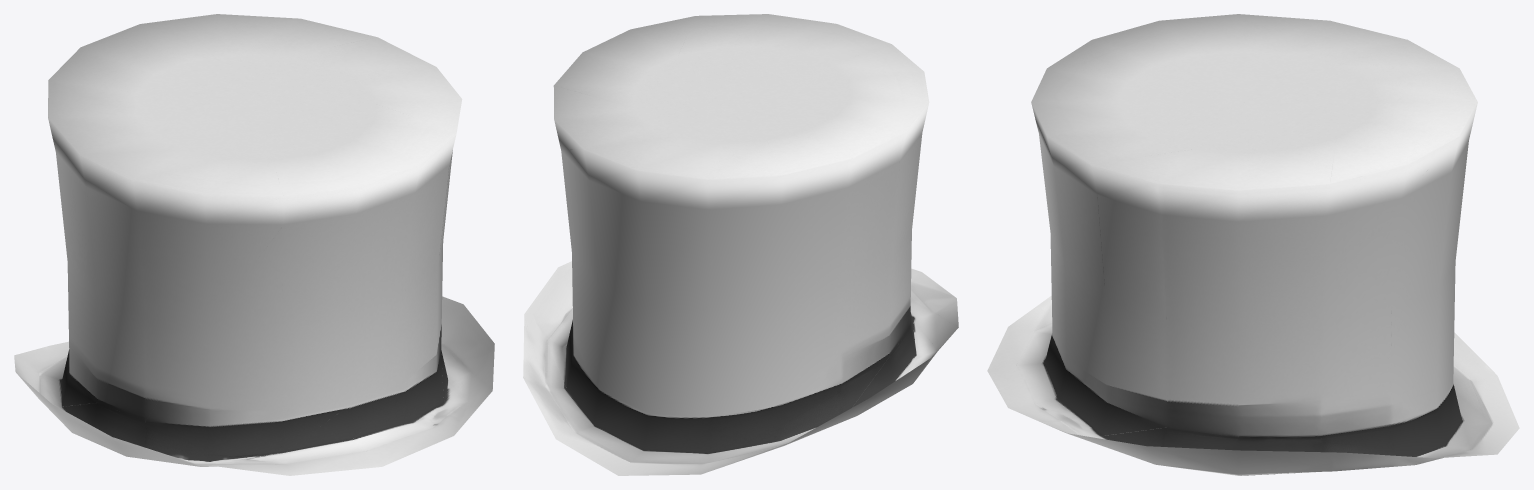
The model's file is hatTop.glb.
3 views of the same model, side by side, from view 1: azimuth 30°, elevation 25°; view 2: azimuth 150°, elevation 25°; view 3: azimuth 270°, elevation 25° (orthographic). The views are drawn at different scales.
Parts seen in each view (by area): view 1: HatTop; view 2: HatTop; view 3: HatTop.
Boxes of the visible parts, bbox=[...] form: HatTop: bbox=[14, 14, 494, 475]; HatTop: bbox=[523, 14, 958, 475]; HatTop: bbox=[987, 14, 1519, 475].
Size of the model in its own units: 10.86 by 8.14 by 12.04.
Materials: 1 (1 with a texture image).
